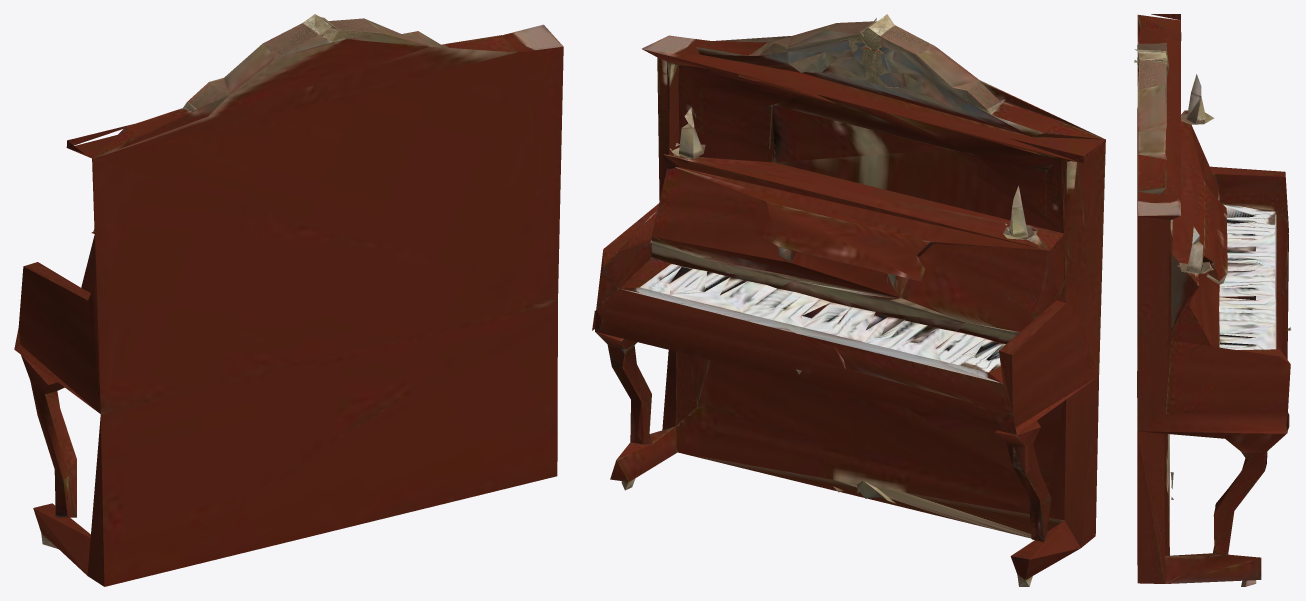
The model's file is mj-piano-upright.lod1.glb.
3 renders of one model, left to right at view 1: azimuth 30°, elevation 25°; view 2: azimuth 150°, elevation 25°; view 3: azimuth 270°, elevation 25°, orthographic. The views are drawn at different scales.
Visible parts, largest first — view 1: mj-piano-upright; view 2: mj-piano-upright; view 3: mj-piano-upright.
Boxes of the visible parts, x1=… form: mj-piano-upright: x1=14, y1=14, x2=563, y2=586; mj-piano-upright: x1=592, y1=14, x2=1105, y2=586; mj-piano-upright: x1=1134, y1=14, x2=1291, y2=586.
Bounding box in the file's own units: 1.46 × 1.51 × 0.4827.
1 material, 1 textured.
